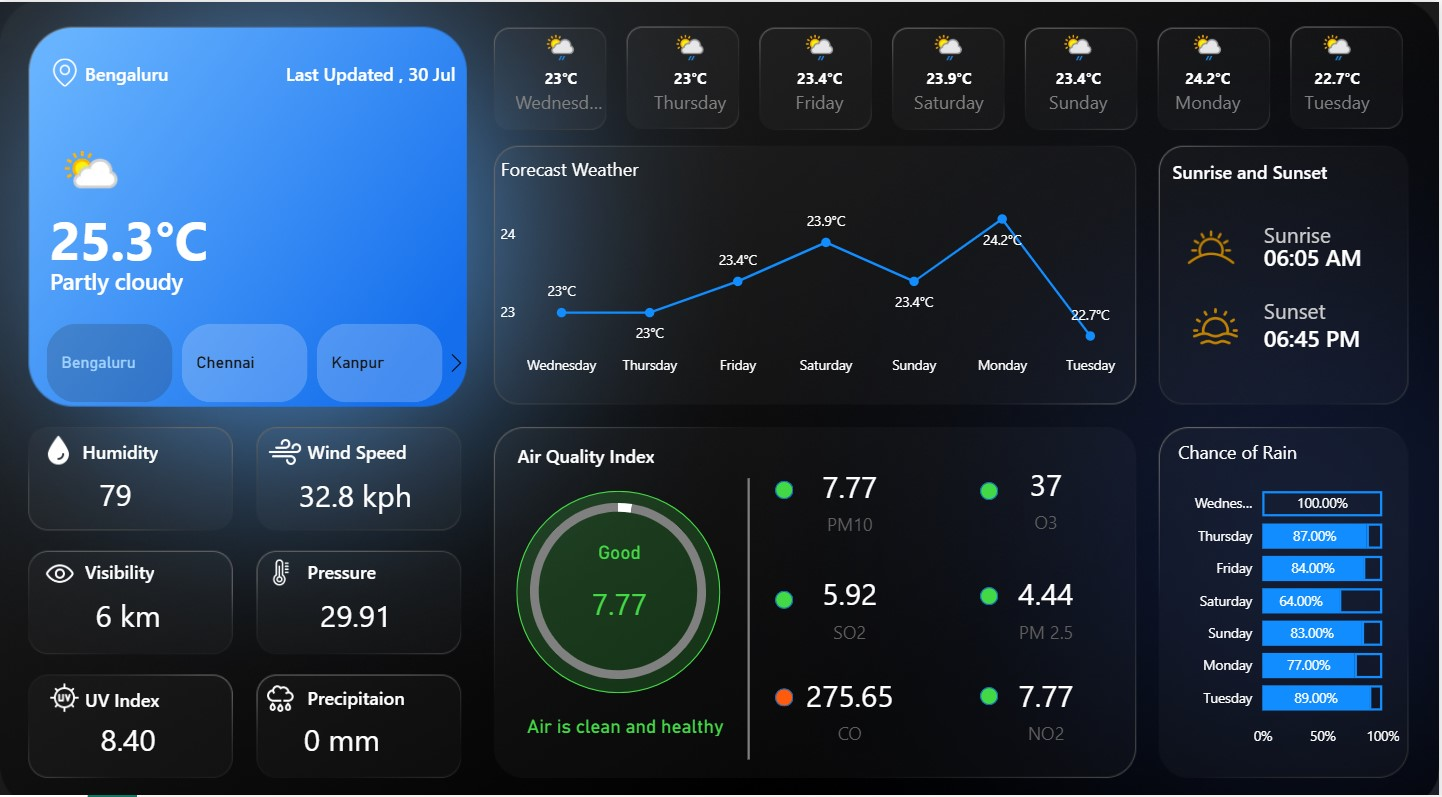

The page's visual inventory and layout, read from the dashboard file:
{"tool":"powerbi","page":{"name":"Page 1","canvas":[1280,720],"ordinal":0},"visuals":[{"type":"shape","box":[458.6,434.3,181.4,180],"z":0},{"type":"donutChart","fields":{"Y":["Sum(Current.current.air_quality.pm10)","Measure.Left_Value_PM10"]},"box":[447.1,414.3,205.7,218.6],"z":1000},{"type":"card","fields":{"Values":["Sum(Current.current.air_quality.pm10)"]},"box":[500,478.6,101.4,94.3],"z":2000},{"type":"advancedSlicerVisual","fields":{"Values":["locations.location.name"]},"box":[17.1,281.4,404.3,80],"z":3000},{"type":"shape","box":[44.2,165.8,204.2,89.2],"z":4000},{"type":"shape","box":[44.2,203.3,204.2,89.2],"z":5000},{"type":"shape","box":[75.7,18.6,172.9,88.6],"z":6000},{"type":"shape","box":[201.2,18.8,203.8,88.8],"z":7000},{"type":"image","box":[38.6,45.7,37.1,34.3],"z":8000},{"type":"image","box":[30,488.6,45.7,38.6],"z":9000},{"type":"shape","box":[75.7,467.1,100,78.6],"z":10000},{"type":"image","box":[31.4,380,41.4,37.1],"z":11000},{"type":"image","box":[38.6,600,37.1,37.1],"z":12000},{"type":"image","box":[232.9,380,40,40],"z":13000},{"type":"image","box":[230,600,38.6,38.6],"z":14000},{"type":"image","box":[232.9,487.1,32.9,40],"z":15000},{"type":"shape","box":[72.9,360,100,78.6],"z":16000},{"type":"shape","box":[272.9,360,100,78.6],"z":17000},{"type":"shape","box":[272.9,467.1,100,78.6],"z":18000},{"type":"shape","box":[272.9,578.6,100,78.6],"z":19000},{"type":"shape","box":[75.7,580,100,78.6],"z":20000},{"type":"card","fields":{"Values":["Sum(Current.current.humidity)"]},"box":[52.5,412.5,101.2,52.5],"z":21000},{"type":"card","fields":{"Values":["_Measures.Wind Speed"]},"box":[237.1,412.9,158.6,52.9],"z":22000},{"type":"card","fields":{"Values":["_Measures.Visibility"]},"box":[62.9,520,101.4,52.9],"z":23000},{"type":"card","fields":{"Values":["Sum(Current.current.pressure_in)"]},"box":[265.7,520,101.4,52.9],"z":24000},{"type":"card","fields":{"Values":["Sum(Current.current.uv)"]},"box":[62.9,630,101.4,52.9],"z":25000},{"type":"card","fields":{"Values":["_Measures.Precipitation"]},"box":[252.9,630,101.4,52.9],"z":26000},{"type":"cardVisual","fields":{"Data":["Min(Current.current.condition.icon)"]},"box":[31.2,107.5,103.8,86.2],"z":27000},{"type":"advancedSlicerVisual","fields":{"Values":["Forcast_Day.Day_Name"]},"box":[440,18.6,808.6,98.6],"z":28000},{"type":"lineChart","title":"Forecast Weather","fields":{"Category":["Forecast_Day.Day_Name"],"Y":["Sum(Forcast_Day.forecast.forecastday.day.avgtemp_c)"]},"box":[440,137.1,565.7,204.3],"z":29000},{"type":"shape","box":[1041.7,136.7,145.8,27.5],"z":30000},{"type":"shape","box":[1123,186.2,93.3,39.2],"z":31000},{"type":"shape","box":[1123,250.3,93.3,48.3],"z":32000},{"type":"shape","box":[1123,212.8,93.3,26.7],"z":33000},{"type":"shape","box":[1123,282,93.3,31.7],"z":34000},{"type":"image","box":[1043.3,185,66.7,65],"z":35000},{"type":"image","box":[1050,263.3,60,50],"z":36000},{"type":"hundredPercentStackedBarChart","title":"Chance of Rain","fields":{"Y":["Sum(Forecast_Day.forecast.forecastday.day.daily_chance_of_rain)","Current.Left_Value_Rain"],"Category":["Forecast_Day.Day_Name"]},"box":[1042.2,388.9,206.7,282.2],"z":37000},{"type":"shape","box":[460,388.3,180,28.3],"z":38000},{"type":"card","fields":{"Values":["Sum(Current.current.air_quality.pm10)"]},"box":[705,388.3,100,106.7],"z":39000},{"type":"card","fields":{"Values":["Sum(Current.current.air_quality.o3)"]},"box":[880,400,100,81.7],"z":40000},{"type":"card","fields":{"Values":["Sum(Current.current.air_quality.so2)"]},"box":[705,495,100,85],"z":41000},{"type":"card","fields":{"Values":["Sum(Current.current.air_quality.pm2_5)"]},"box":[880,495,100,85],"z":42000},{"type":"card","fields":{"Values":["Sum(Current.current.air_quality.co)"]},"box":[705,585,100,85],"z":43000},{"type":"card","fields":{"Values":["Sum(Current.current.air_quality.no2)"]},"box":[880,586.7,100,83.3],"z":44000},{"type":"shape","box":[689.1,425.5,16.4,16.4],"z":45000},{"type":"shape","box":[689.1,610,16.4,16.4],"z":46000},{"type":"shape","box":[689.2,523.8,16.2,16.2],"z":47000},{"type":"shape","box":[871.5,426.2,16.2,16.2],"z":48000},{"type":"shape","box":[871.5,520,16.2,16.2],"z":49000},{"type":"shape","box":[871.5,609.2,16.2,16.2],"z":50000},{"type":"shape","box":[562.9,422.9,204.3,250],"z":51000},{"type":"shape","box":[447.1,632.9,218.6,50],"z":51001}]}

Visuals, with their boxes in screenshot pixels (x1, y1, x2, y2), scaled from the page's 1280x720 canvas onto the 1442x797 screenshot:
shape: locate(517, 481, 721, 680)
donutChart - Sum(Current.current.air_quality.pm10) x Measure.Left_Value_PM10: locate(504, 459, 735, 701)
card - Sum(Current.current.air_quality.pm10): locate(563, 530, 678, 634)
advancedSlicerVisual - locations.location.name: locate(19, 311, 475, 400)
shape: locate(50, 184, 280, 282)
shape: locate(50, 225, 280, 324)
shape: locate(85, 21, 280, 119)
shape: locate(227, 21, 456, 119)
image: locate(43, 51, 85, 89)
image: locate(34, 541, 85, 584)
shape: locate(85, 517, 198, 604)
image: locate(35, 421, 82, 462)
image: locate(43, 664, 85, 705)
image: locate(262, 421, 307, 465)
image: locate(259, 664, 303, 707)
image: locate(262, 539, 299, 583)
shape: locate(82, 398, 195, 486)
shape: locate(307, 398, 420, 486)
shape: locate(307, 517, 420, 604)
shape: locate(307, 640, 420, 727)
shape: locate(85, 642, 198, 729)
card - Sum(Current.current.humidity): locate(59, 457, 173, 515)
card - _Measures.Wind Speed: locate(267, 457, 446, 516)
card - _Measures.Visibility: locate(71, 576, 185, 634)
card - Sum(Current.current.pressure_in): locate(299, 576, 414, 634)
card - Sum(Current.current.uv): locate(71, 697, 185, 756)
card - _Measures.Precipitation: locate(285, 697, 399, 756)
cardVisual - Min(Current.current.condition.icon): locate(35, 119, 152, 214)
advancedSlicerVisual - Forcast_Day.Day_Name: locate(496, 21, 1407, 130)
"Forecast Weather" lineChart: locate(496, 152, 1133, 378)
shape: locate(1174, 151, 1338, 182)
shape: locate(1265, 206, 1370, 250)
shape: locate(1265, 277, 1370, 331)
shape: locate(1265, 236, 1370, 265)
shape: locate(1265, 312, 1370, 347)
image: locate(1175, 205, 1250, 277)
image: locate(1183, 291, 1250, 347)
"Chance of Rain" hundredPercentStackedBarChart: locate(1174, 430, 1407, 743)
shape: locate(518, 430, 721, 461)
card - Sum(Current.current.air_quality.pm10): locate(794, 430, 907, 548)
card - Sum(Current.current.air_quality.o3): locate(991, 443, 1104, 533)
card - Sum(Current.current.air_quality.so2): locate(794, 548, 907, 642)
card - Sum(Current.current.air_quality.pm2_5): locate(991, 548, 1104, 642)
card - Sum(Current.current.air_quality.co): locate(794, 648, 907, 742)
card - Sum(Current.current.air_quality.no2): locate(991, 649, 1104, 742)
shape: locate(776, 471, 795, 489)
shape: locate(776, 675, 795, 693)
shape: locate(776, 580, 795, 598)
shape: locate(982, 472, 1000, 490)
shape: locate(982, 576, 1000, 594)
shape: locate(982, 674, 1000, 692)
shape: locate(634, 468, 864, 745)
shape: locate(504, 701, 750, 756)
